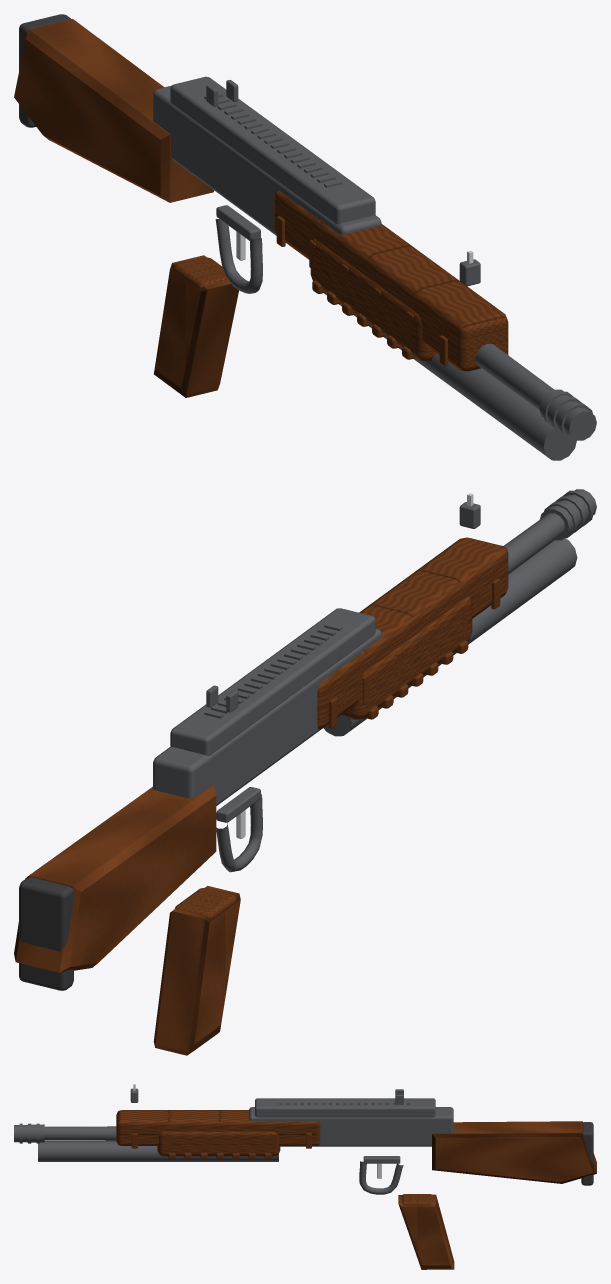
File: tactical-shooter-hill-town-pump-shotgun-5b373d89__27547.glb
The picture shows the model from 3 angles, top to bottom: view 1: azimuth 30°, elevation 25°; view 2: azimuth 150°, elevation 25°; view 3: azimuth 270°, elevation 25°; orthographic projection. The views are drawn at different scales.
Visible parts, largest first — view 1: pump-shotgun, pump; view 2: pump-shotgun, pump; view 3: pump-shotgun, pump.
Part boxes in pixels (box(x1,y1,x2,y2)): pump-shotgun: box(14, 14, 596, 460); pump: box(310, 238, 436, 361); pump-shotgun: box(14, 489, 596, 1055); pump: box(341, 596, 472, 719); pump-shotgun: box(14, 1084, 596, 1269); pump: box(157, 1131, 280, 1158).
Size of the model in its own units: 0.062 by 0.325 by 0.9483.
Materials: 4 (1 with a texture image).
